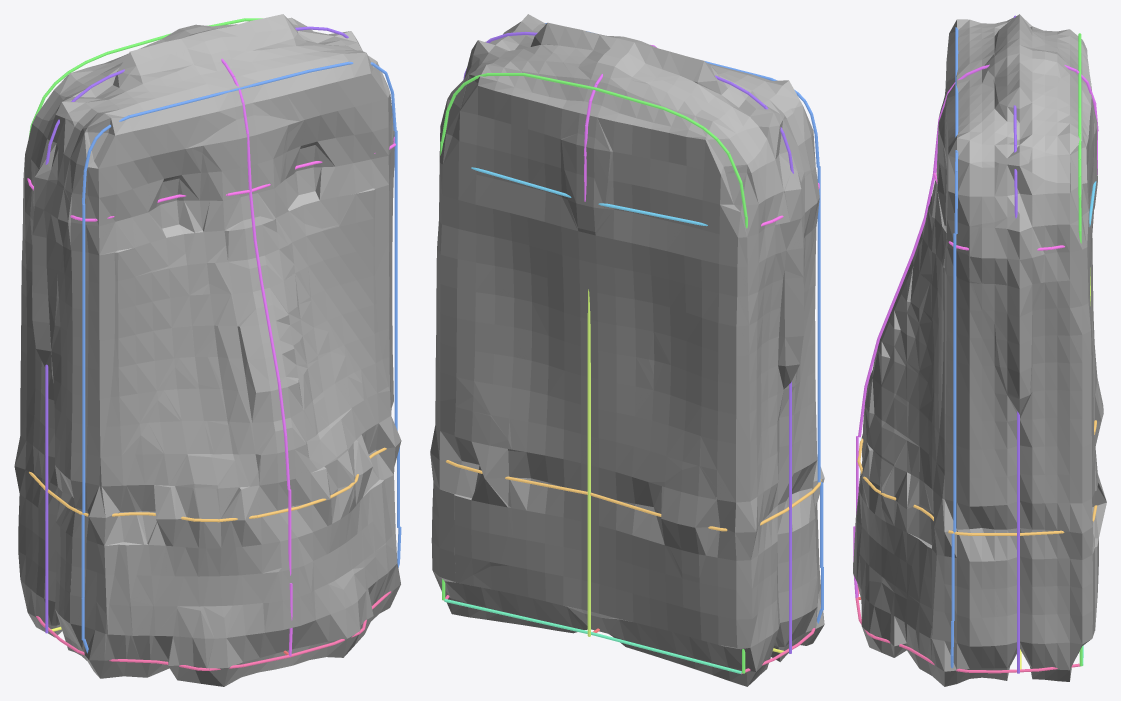
3 views of the same model, side by side, from view 1: azimuth 30°, elevation 25°; view 2: azimuth 150°, elevation 25°; view 3: azimuth 270°, elevation 25° (orthographic). The views are drawn at different scales.
Size of the model in its own units: 0.5288 by 0.846 by 0.3417.
